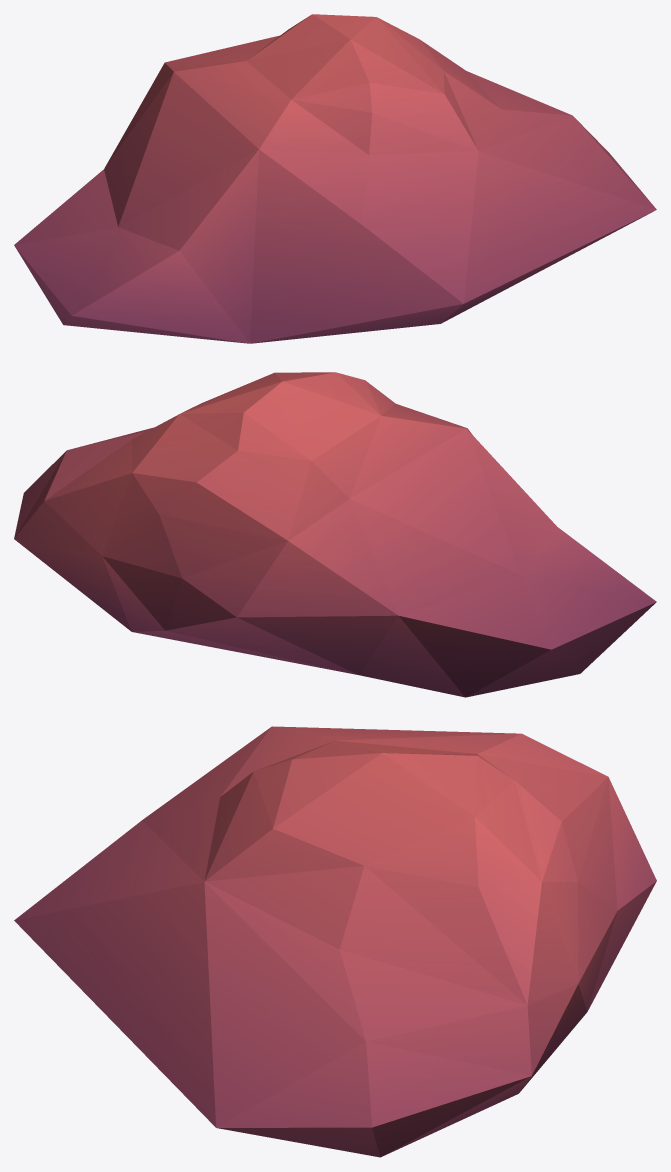
Rendered from treeRootLeaf.fbx.
3 renders of one model, top to bottom at view 1: azimuth 30°, elevation 25°; view 2: azimuth 150°, elevation 25°; view 3: azimuth 270°, elevation 25°, orthographic. The views are drawn at different scales.
Parts seen in each view (by area): view 1: treeRootLeaf; view 2: treeRootLeaf; view 3: treeRootLeaf.
Part boxes in pixels (left/top/right/bottom): treeRootLeaf: left=14, top=14, right=656, bottom=343; treeRootLeaf: left=14, top=372, right=656, bottom=697; treeRootLeaf: left=14, top=726, right=656, bottom=1157.
Size of the model in its own units: 1124 by 472 by 863.
